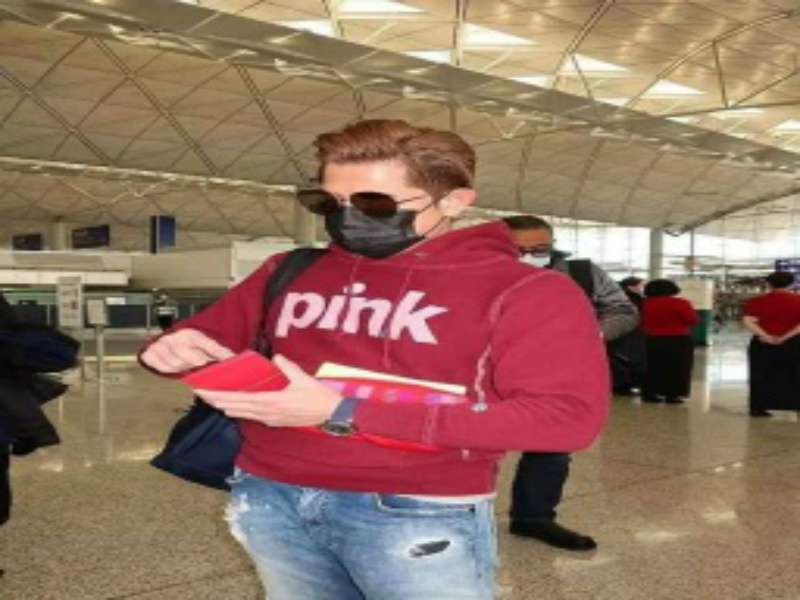ManaoArotava: (294, 121, 450, 288)
